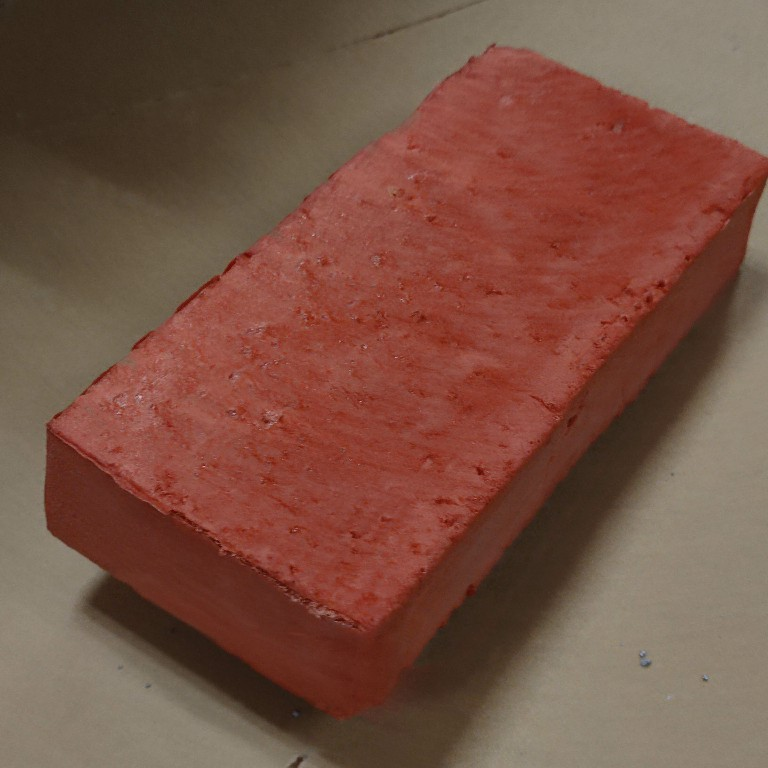brick: (43, 40, 768, 726)
